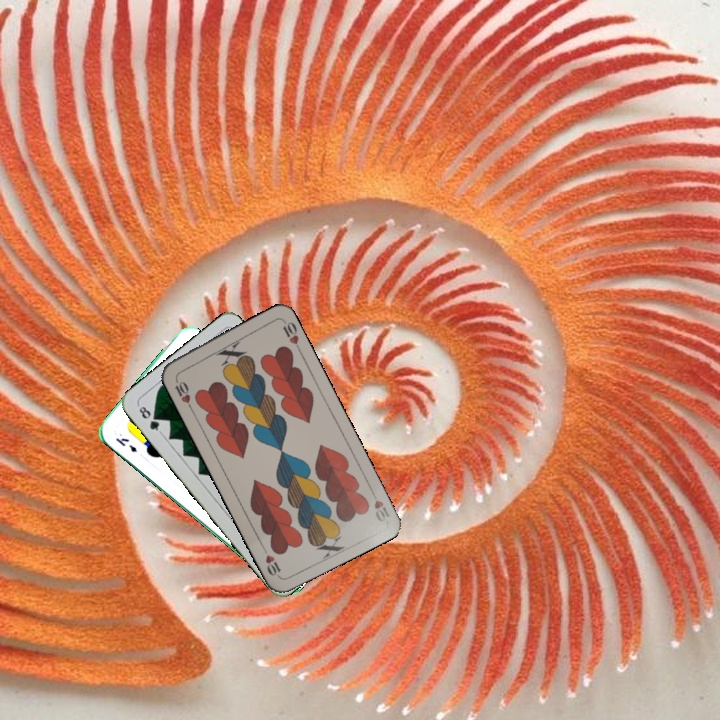EK: (111, 433, 139, 455)
G8: (134, 401, 164, 435)
H10: (366, 485, 392, 524), (170, 373, 194, 412)
